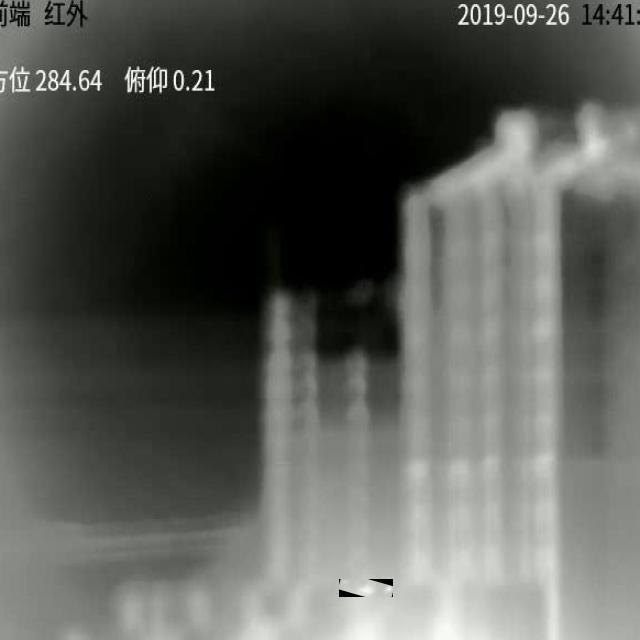drone: (339, 579, 393, 597)
